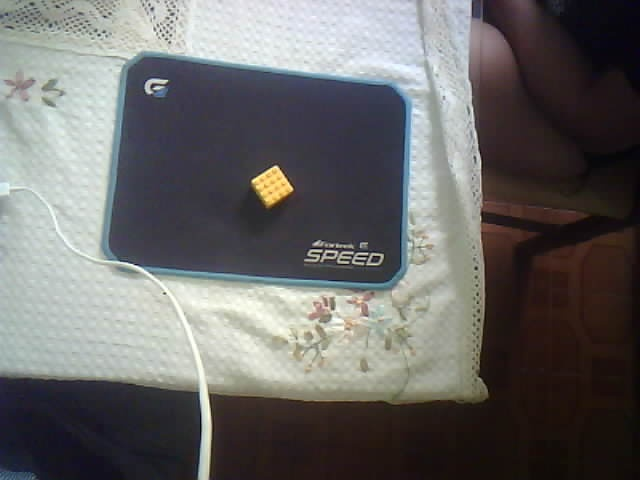lego: (249, 165, 295, 210)
